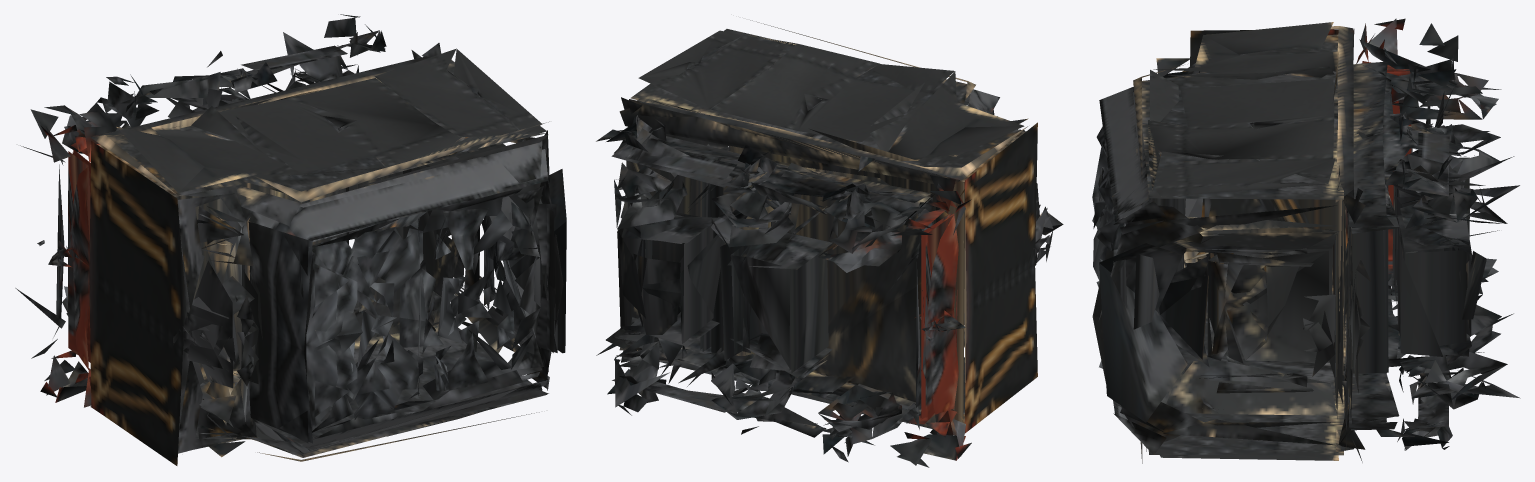
Rendered from black_five_tender_r005.glb.
The picture shows the model from 3 angles, left to right: view 1: azimuth 30°, elevation 25°; view 2: azimuth 150°, elevation 25°; view 3: azimuth 270°, elevation 25°; orthographic projection. The views are drawn at different scales.
Visible parts, largest first — view 1: part_tender.001; view 2: part_tender.001; view 3: part_tender.001.
Part boxes in pixels (x1,y1,x2,y2): part_tender.001: (15,14,566,465); part_tender.001: (596,20,1063,467); part_tender.001: (1092,18,1520,463).
Bounding box in the file's own units: 3.79 × 2.81 × 3.72.
1 material, 1 textured.
